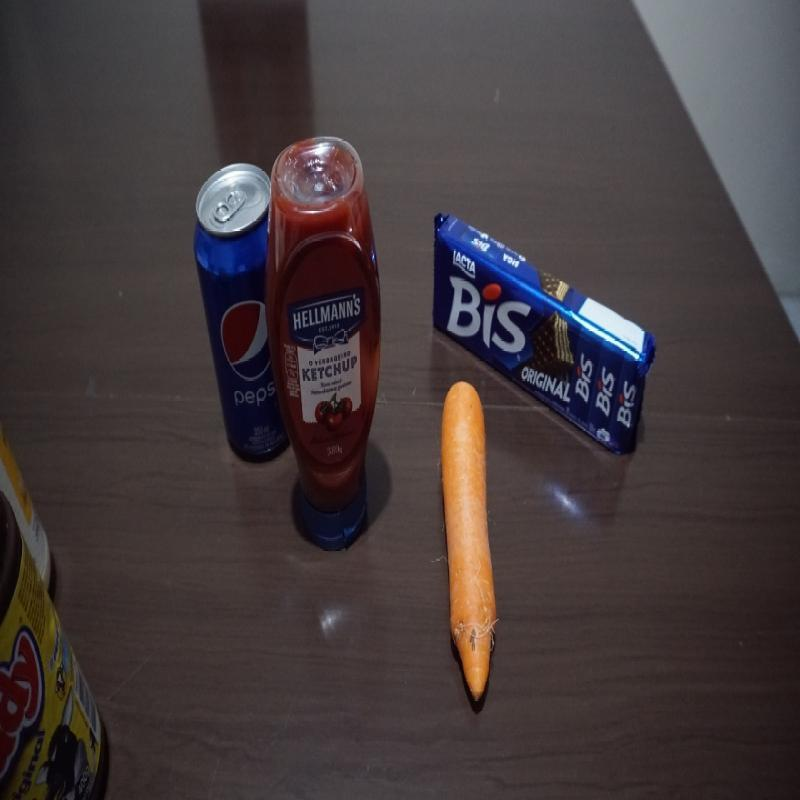Carrot: (442, 380, 500, 711)
Chocolate Powder: (0, 490, 119, 800)
Ketchup: (263, 138, 380, 550)
Soda can: (194, 166, 288, 467)
